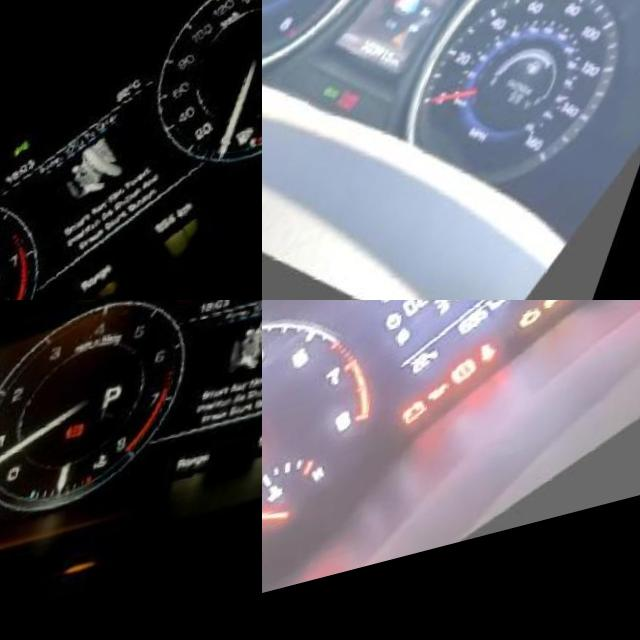Engine cooling system: (105, 460, 125, 484)
High Engine Coolant Temperature: (275, 485, 301, 513)
Low fuel level: (232, 155, 259, 185)
Seat Belt: (487, 352, 512, 381)
